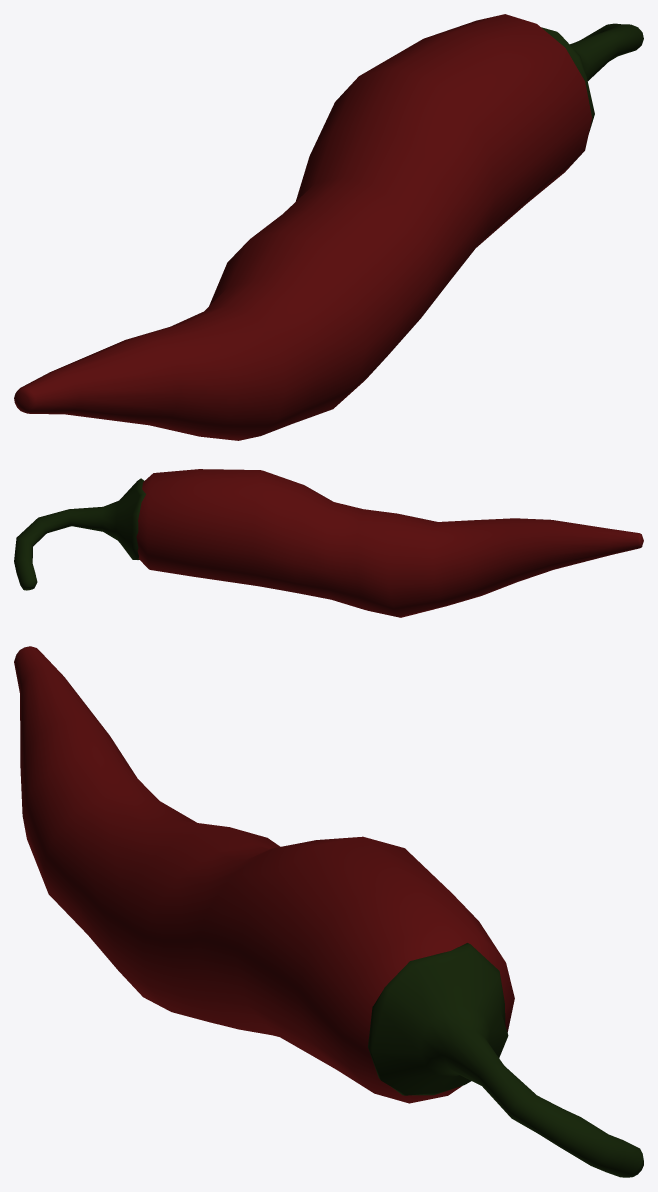
File: MESH_Chili.fbx
3 renders of one model, top to bottom at view 1: azimuth 30°, elevation 25°; view 2: azimuth 150°, elevation 25°; view 3: azimuth 270°, elevation 25°, orthographic. The views are drawn at different scales.
Visible parts, largest first — view 1: MESH_Chili; view 2: MESH_Chili; view 3: MESH_Chili.
Part boxes in pixels (x1,y1,x2,y2): MESH_Chili: (14, 14, 643, 440); MESH_Chili: (14, 469, 643, 617); MESH_Chili: (14, 646, 643, 1177).
Bounding box in the file's own units: 0.1598 × 0.0431 × 0.0931.
